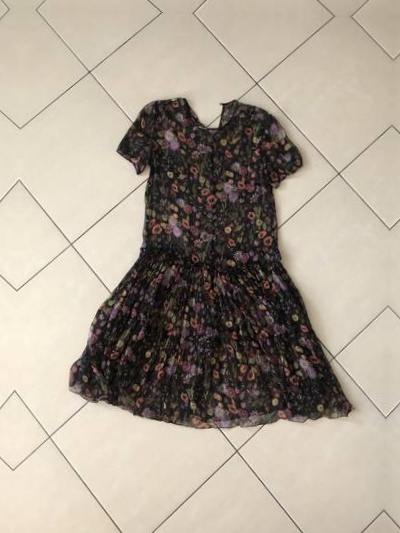Dress: (62, 66, 361, 442)
